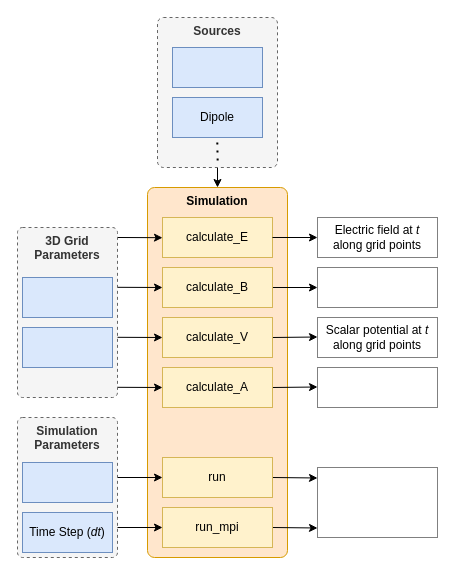
Image size: 455x575. Some labels were removed from this diagram. The shapes that lost their labels are listed below. From the top down, each one's centre as x and y in pixels, then its label:
the point at 217,67: Charge
the point at 67,297: Time ( t )
the point at 377,287: Magnetic field at t along grid points
the point at 67,347: Meshgrid of x , y , z Positions
the point at 377,387: Vector potential field at t along grid points
the point at 67,482: Number of Time Steps
the point at 377,502: Dipole moment (and other auxiliary data) of the dipoles at each time step
